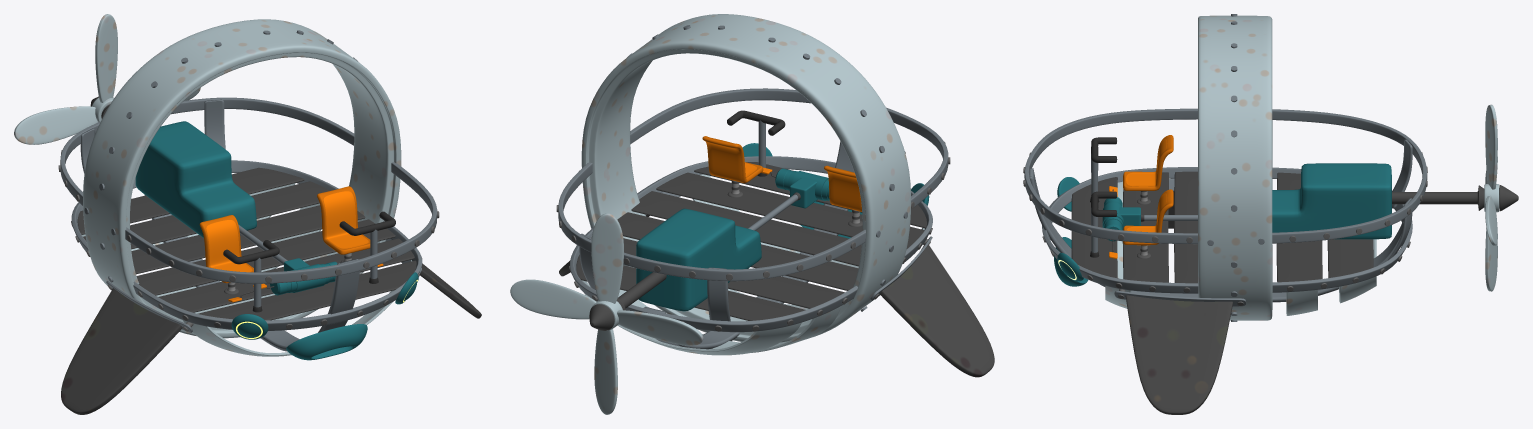
Rendered from gup-f.glb.
3 renders of one model, left to right at view 1: azimuth 30°, elevation 25°; view 2: azimuth 150°, elevation 25°; view 3: azimuth 270°, elevation 25°, orthographic. The views are drawn at different scales.
Visible parts, largest first — view 1: Part_Frame3, Part_Floor, Part_Moror, Part_FinL, Part_Frame1, Part_Prepeller, Part_Frame2, Part_Plane.001, Part_Plane.019, Part_MOUTH, Part_Frame4, Part_Body (+8 smaller); view 2: Part_Frame3, Part_Floor, Part_Prepeller, Part_Frame1, Part_Moror, Part_FinL, Part_Frame2, Part_Body, Part_Plane.001, Part_Frame5, Part_Prepeller2, Part_Frame4 (+5 smaller); view 3: Part_Frame3, Part_Floor, Part_FinL.001, Part_Frame1, Part_Moror, Part_Frame2, Part_Prepeller, Part_Body, Part_Frame4, Part_Prepeller2, Part_Plane.019, Part_Frame5 (+7 smaller).
Part boxes in pixels (x1=…): Part_Frame3: x1=83, y1=19, x2=401, y2=338; Part_Floor: x1=77, y1=167, x2=416, y2=320; Part_Moror: x1=135, y1=121, x2=256, y2=237; Part_FinL: x1=61, y1=288, x2=182, y2=414; Part_Frame1: x1=60, y1=97, x2=437, y2=283; Part_Prepeller: x1=14, y1=14, x2=200, y2=144; Part_Frame2: x1=71, y1=160, x2=422, y2=330; Part_Plane.001: x1=317, y1=186, x2=370, y2=254; Part_Plane.019: x1=199, y1=215, x2=253, y2=283; Part_MOUTH: x1=286, y1=324, x2=367, y2=360; Part_Frame4: x1=144, y1=194, x2=359, y2=351; Part_Body: x1=82, y1=183, x2=411, y2=356; Part_Frame3: x1=581, y1=14, x2=910, y2=342; Part_Floor: x1=576, y1=162, x2=926, y2=320; Part_Prepeller: x1=510, y1=213, x2=703, y2=414; Part_Frame1: x1=558, y1=88, x2=948, y2=281; Part_Moror: x1=636, y1=208, x2=761, y2=311; Part_FinL: x1=880, y1=244, x2=994, y2=377; Part_Frame2: x1=570, y1=156, x2=932, y2=332; Part_Body: x1=582, y1=174, x2=924, y2=355; Part_Plane.001: x1=702, y1=136, x2=763, y2=183; Part_Frame5: x1=579, y1=233, x2=730, y2=321; Part_Prepeller2: x1=589, y1=272, x2=666, y2=330; Part_Frame4: x1=643, y1=141, x2=854, y2=349; Part_Frame3: x1=1198, y1=15, x2=1272, y2=320; Part_Floor: x1=1071, y1=171, x2=1373, y2=283; Part_FinL.001: x1=1125, y1=295, x2=1233, y2=414; Part_Frame1: x1=1024, y1=108, x2=1427, y2=244; Part_Moror: x1=1272, y1=163, x2=1391, y2=239; Part_Frame2: x1=1042, y1=167, x2=1412, y2=293; Part_Prepeller: x1=1485, y1=104, x2=1497, y2=291; Part_Body: x1=1105, y1=181, x2=1376, y2=315; Part_Frame4: x1=1029, y1=168, x2=1403, y2=302; Part_Prepeller2: x1=1392, y1=185, x2=1518, y2=211; Part_Plane.019: x1=1123, y1=135, x2=1173, y2=190; Part_Frame5: x1=1388, y1=139, x2=1412, y2=260.
Bounding box in the file's own units: 4.05 × 2.87 × 4.47.
Materials: 18 (9 with a texture image).
